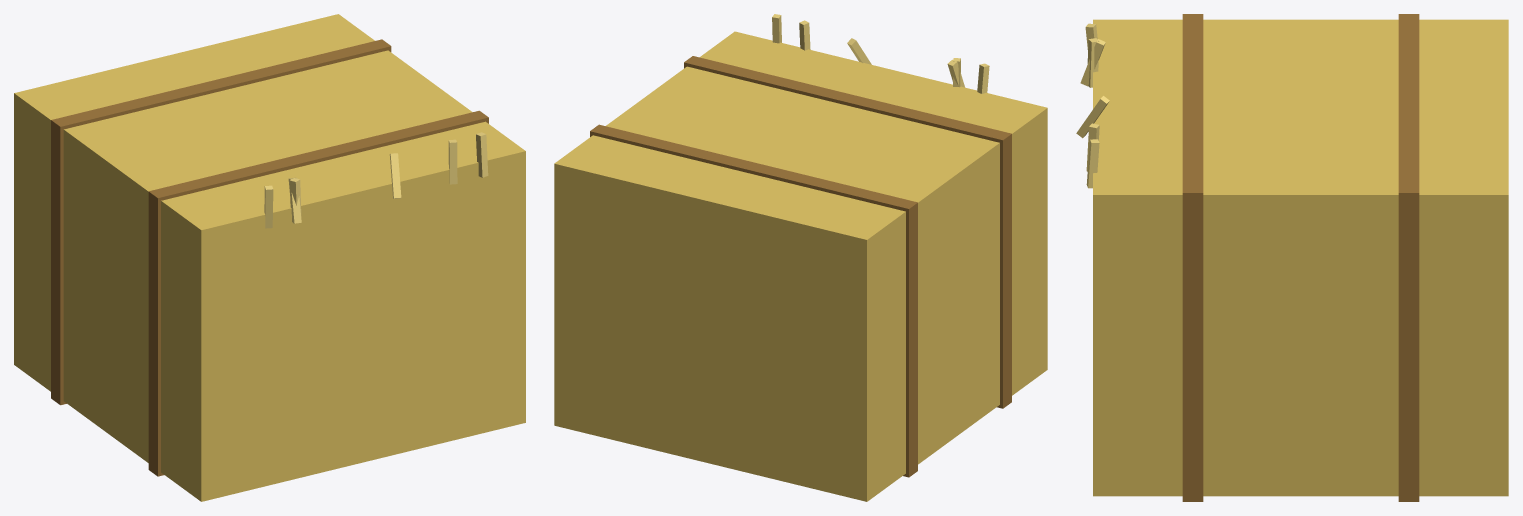
The model's file is HayBale.fbx.
The picture shows the model from 3 angles, left to right: view 1: azimuth 30°, elevation 25°; view 2: azimuth 150°, elevation 25°; view 3: azimuth 270°, elevation 25°; orthographic projection. The views are drawn at different scales.
Parts seen in each view (by area): view 1: Hay, Twine, Straws; view 2: Hay, Twine, Straws; view 3: Hay, Twine, Straws.
Boxes of the visible parts, x1=… form: Hay: x1=14, y1=14, x2=525, y2=501; Twine: x1=51, y1=39, x2=488, y2=476; Straws: x1=264, y1=132, x2=488, y2=228; Hay: x1=554, y1=31, x2=1047, y2=501; Twine: x1=590, y1=56, x2=1011, y2=477; Straws: x1=772, y1=14, x2=989, y2=93; Hay: x1=1093, y1=19, x2=1508, y2=496; Twine: x1=1182, y1=14, x2=1419, y2=501; Straws: x1=1076, y1=23, x2=1109, y2=188.
Size of the model in its own units: 5.1 by 4.45 by 5.2.
